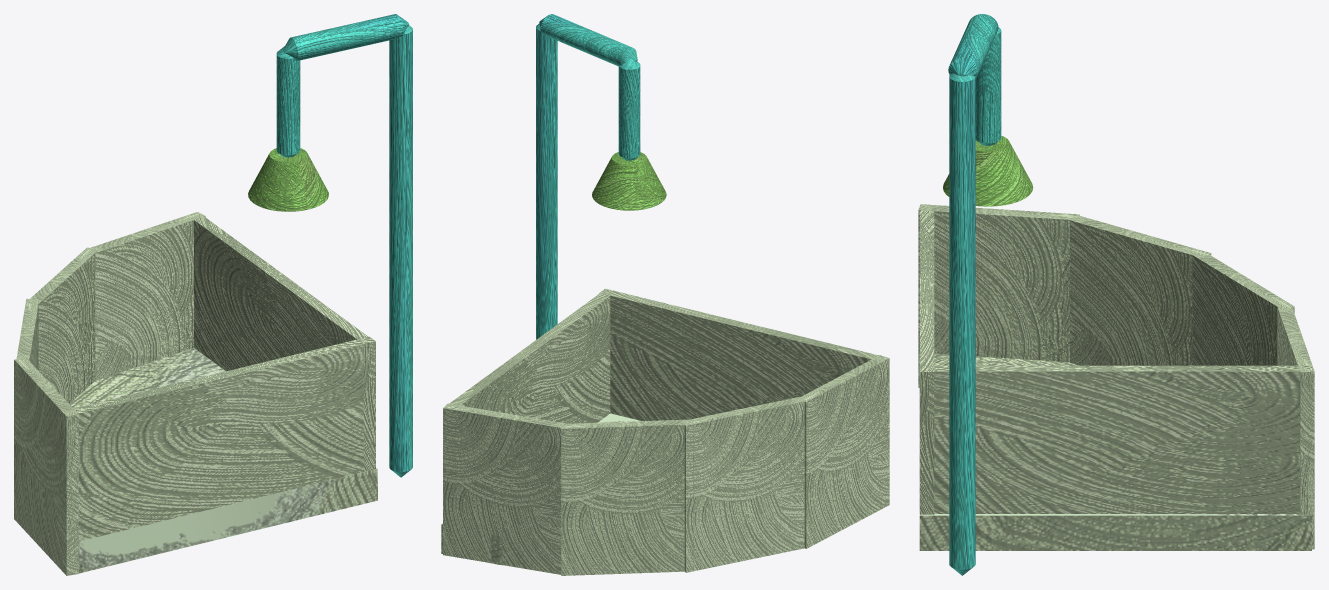
The model's file is Bath.fbx.
The picture shows the model from 3 angles, left to right: view 1: azimuth 30°, elevation 25°; view 2: azimuth 150°, elevation 25°; view 3: azimuth 270°, elevation 25°; orthographic projection. The views are drawn at different scales.
Parts seen in each view (by area): view 1: North, West, South, Bottom, East, ShowerAscPipeline, SouthSouthEast, Shower, ShowerHorizontalPipeline, ShowerDescPipeline, SouthEastEast; view 2: North, SouthSouthEast, SouthEastEast, South, East, West, ShowerAscPipeline, Shower, ShowerHorizontalPipeline, ShowerDescPipeline, Bottom; view 3: West, East, SouthEastEast, Bottom, ShowerAscPipeline, SouthSouthEast, North, South, Shower, ShowerDescPipeline, ShowerHorizontalPipeline.
Part boxes in pixels (x1,y1,x2,y2): North: (65, 336, 375, 541); West: (194, 214, 374, 471); South: (87, 212, 205, 380); Bottom: (69, 348, 377, 573); East: (14, 359, 78, 575); ShowerAscPipeline: (389, 25, 412, 477); SouthSouthEast: (26, 247, 96, 403); Shower: (248, 148, 328, 211); ShowerHorizontalPipeline: (283, 14, 409, 60); ShowerDescPipeline: (276, 46, 300, 157); SouthEastEast: (16, 298, 39, 370); North: (599, 288, 878, 420); SouthSouthEast: (561, 419, 693, 575); SouthEastEast: (681, 397, 804, 572); South: (443, 403, 567, 574); East: (797, 355, 889, 548); West: (449, 289, 615, 423); ShowerAscPipeline: (536, 24, 557, 339); Shower: (592, 152, 666, 210); ShowerHorizontalPipeline: (539, 14, 637, 66); ShowerDescPipeline: (618, 59, 640, 160); Bottom: (441, 413, 640, 565); West: (919, 365, 1312, 513); East: (918, 204, 1079, 387); SouthEastEast: (1070, 215, 1211, 365); Bottom: (919, 353, 1311, 550); ShowerAscPipeline: (949, 73, 975, 575); SouthSouthEast: (1193, 254, 1294, 365); North: (920, 210, 934, 514); South: (1277, 306, 1314, 549); Shower: (943, 136, 1033, 206); ShowerDescPipeline: (975, 27, 1001, 145); ShowerHorizontalPipeline: (948, 14, 998, 78).
Size of the model in its own units: 238 by 290 by 202.
